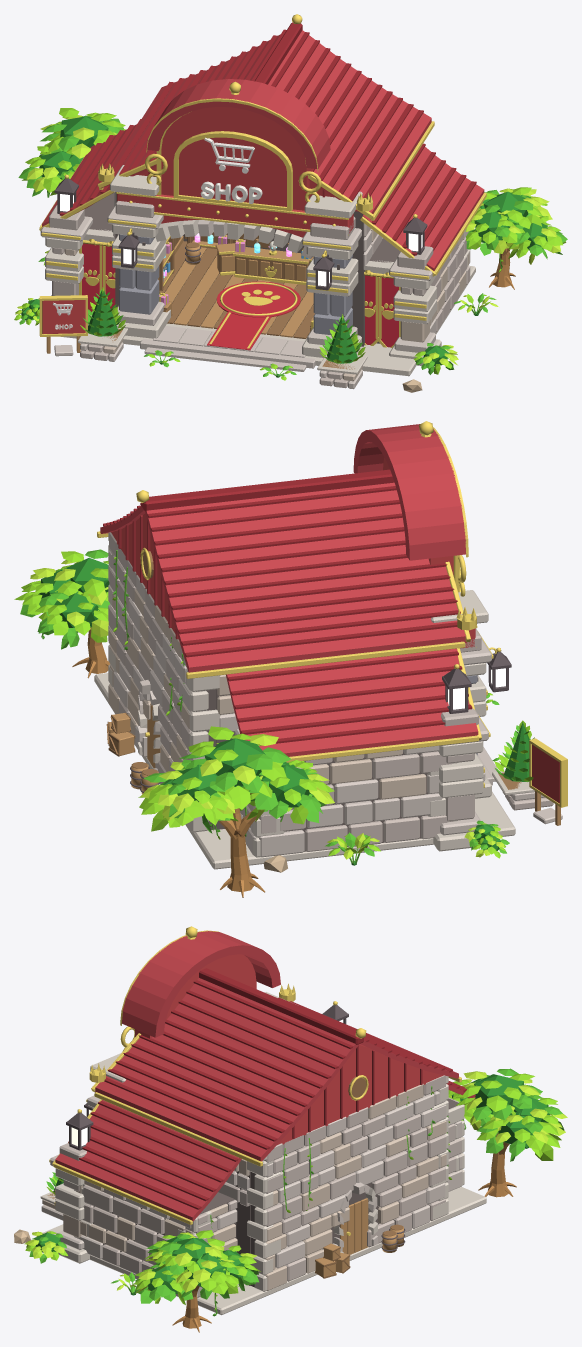
The model's file is TowerOfPets_Shop.fbx.
The picture shows the model from 3 angles, top to bottom: view 1: azimuth 30°, elevation 25°; view 2: azimuth 150°, elevation 25°; view 3: azimuth 270°, elevation 25°; orthographic projection. The views are drawn at different scales.
Visible parts, largest first — view 1: Shop_Roof_Main__Shop_Roof, Shop_Roof_Main__Shop_Roof_Dark, Shop_Pillars__Castle_Trim, Shop_Front_Gable__Shop_Roof, Shop_Main_Sign__Red_Wood, Shop_Front_Gable__Red_Wood, Shop_Floor__Castle_Stone_Light, Shop_Walls_Wings__Castle_Trim, Shop_Pillars__Shop_Stone_Dark, Shop_Entrance_Arch__Red_Wood, Shop_Walls_Wings__Castle_Stone, Shop_Floor__Interior_Wood (+45 smaller); view 2: Shop_Roof_Main__Shop_Roof, Shop_Roof_Main__Shop_Roof_Dark, Shop_Front_Gable__Shop_Roof, Shop_Walls_Wings__Castle_Stone, Shop_Walls_Wings__Castle_Stone_Light, Shop_Land_Tree_Medium_High_8__Leaves_Light, Shop_Walls_Hall__Castle_Stone, Shop_Roof_Main__Gold, Shop_Walls_Hall__Castle_Stone_Warm, Shop_Walls_Hall__Castle_Stone_Light, Shop_Floor__Castle_Trim, Shop_Walls_Wings__Castle_Trim (+20 smaller); view 3: Shop_Roof_Main__Shop_Roof, Shop_Roof_Main__Shop_Roof_Dark, Shop_Walls_Hall__Castle_Stone, Shop_Walls_Hall__Castle_Stone_Light, Shop_Walls_Hall__Castle_Stone_Warm, Shop_Front_Gable__Shop_Roof, Shop_Walls_Wings__Castle_Stone, Shop_Roof_Main__Red_Wood, Shop_Walls_Hall__Castle_Trim, Shop_Floor__Castle_Trim, Shop_Land_Tree_Medium_High_8__Leaves_Light, Shop_Land_Tree_Small_9__Leaves_Light (+18 smaller).
Boxes of the visible parts, bbox=[...] form: Shop_Roof_Main__Shop_Roof: bbox=[42, 30, 484, 270]; Shop_Roof_Main__Shop_Roof_Dark: bbox=[59, 22, 476, 255]; Shop_Pillars__Castle_Trim: bbox=[110, 165, 362, 357]; Shop_Front_Gable__Shop_Roof: bbox=[147, 79, 330, 168]; Shop_Main_Sign__Red_Wood: bbox=[179, 137, 286, 206]; Shop_Front_Gable__Red_Wood: bbox=[137, 107, 358, 211]; Shop_Floor__Castle_Stone_Light: bbox=[140, 326, 315, 371]; Shop_Walls_Wings__Castle_Trim: bbox=[45, 229, 470, 365]; Shop_Pillars__Shop_Stone_Dark: bbox=[119, 234, 352, 335]; Shop_Entrance_Arch__Red_Wood: bbox=[117, 194, 353, 237]; Shop_Walls_Wings__Castle_Stone: bbox=[49, 205, 469, 331]; Shop_Floor__Interior_Wood: bbox=[159, 241, 314, 338]; Shop_Roof_Main__Shop_Roof: bbox=[100, 482, 478, 756]; Shop_Roof_Main__Shop_Roof_Dark: bbox=[103, 469, 472, 745]; Shop_Front_Gable__Shop_Roof: bbox=[353, 424, 466, 560]; Shop_Walls_Wings__Castle_Stone: bbox=[240, 708, 478, 851]; Shop_Walls_Wings__Castle_Stone_Light: bbox=[235, 717, 488, 857]; Shop_Land_Tree_Medium_High_8__Leaves_Light: bbox=[138, 726, 334, 839]; Shop_Walls_Hall__Castle_Stone: bbox=[108, 532, 191, 783]; Shop_Roof_Main__Gold: bbox=[97, 490, 481, 762]; Shop_Walls_Hall__Castle_Stone_Warm: bbox=[108, 589, 234, 771]; Shop_Walls_Hall__Castle_Stone_Light: bbox=[108, 550, 238, 770]; Shop_Floor__Castle_Trim: bbox=[94, 673, 515, 869]; Shop_Walls_Wings__Castle_Trim: bbox=[250, 741, 483, 857]; Shop_Roof_Main__Shop_Roof: bbox=[55, 978, 475, 1221]; Shop_Roof_Main__Shop_Roof_Dark: bbox=[68, 968, 466, 1209]; Shop_Walls_Hall__Castle_Stone: bbox=[218, 1075, 446, 1281]; Shop_Walls_Hall__Castle_Stone_Light: bbox=[226, 1091, 446, 1268]; Shop_Walls_Hall__Castle_Stone_Warm: bbox=[234, 1084, 446, 1290]; Shop_Front_Gable__Shop_Roof: bbox=[122, 931, 280, 1037]; Shop_Walls_Wings__Castle_Stone: bbox=[59, 1097, 461, 1297]; Shop_Roof_Main__Red_Wood: bbox=[277, 1044, 443, 1144]; Shop_Walls_Hall__Castle_Trim: bbox=[247, 1075, 448, 1291]; Shop_Floor__Castle_Trim: bbox=[42, 1186, 486, 1315]; Shop_Land_Tree_Medium_High_8__Leaves_Light: bbox=[448, 1073, 561, 1160]; Shop_Land_Tree_Small_9__Leaves_Light: bbox=[133, 1230, 260, 1310].
Bounding box in the file's own units: 7326 × 3988 × 7356.
